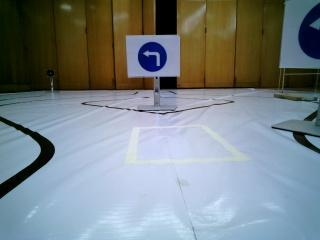left: (128, 35, 180, 78)
